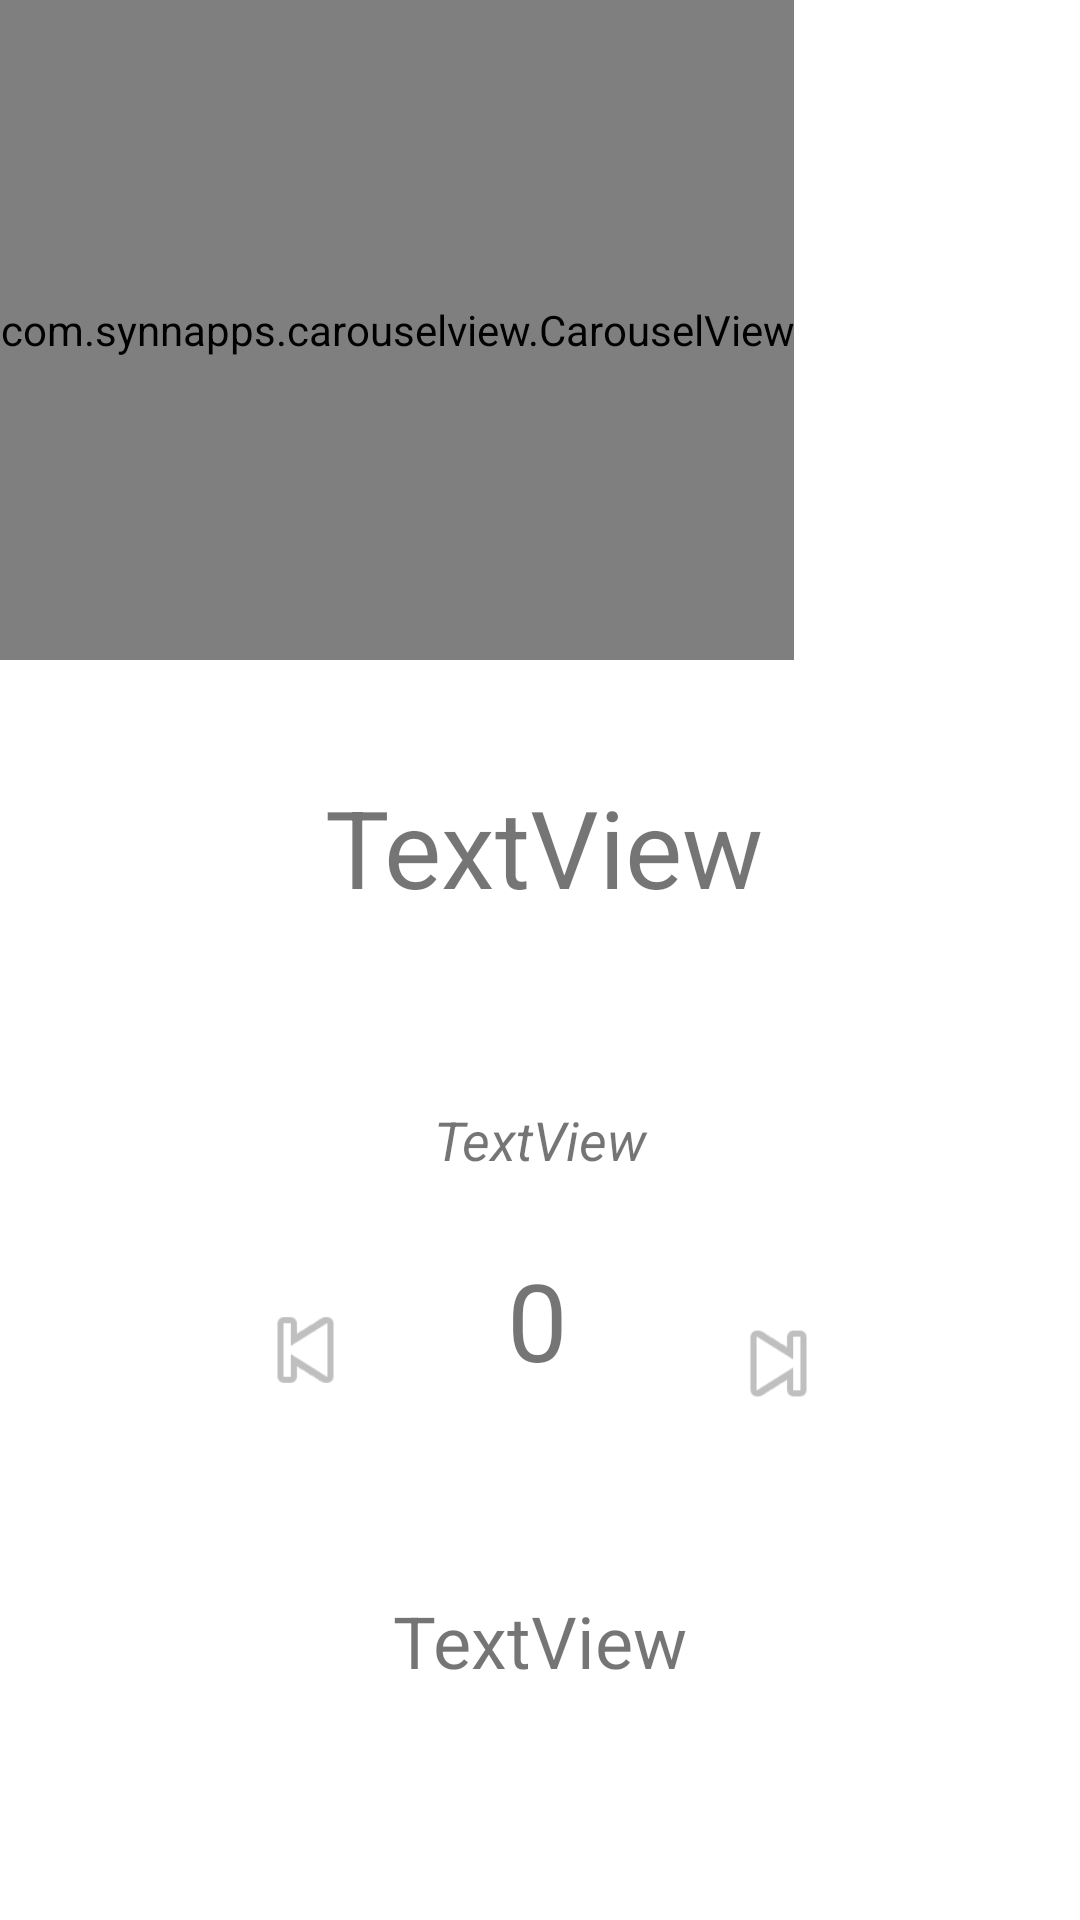

Screen size 1080*1920. Icon name, then its center in pixels as point (x, y):
next: point (778, 1363)
previous: point (305, 1350)
